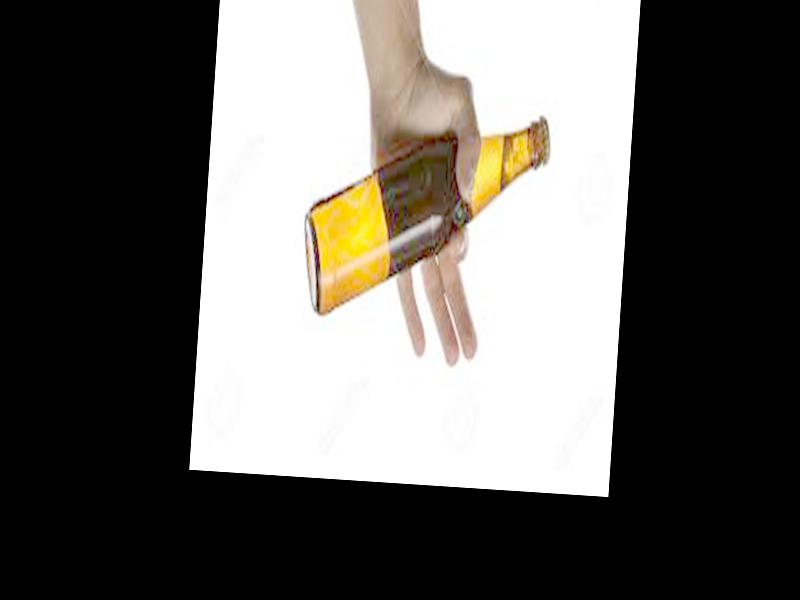Beer: (300, 106, 546, 323)
